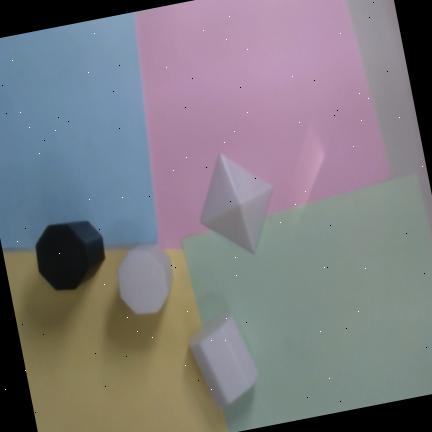Piramide: (200, 154, 273, 254)
Prisma_hexagonal: (189, 310, 260, 407), (35, 220, 106, 291), (118, 244, 174, 314)
